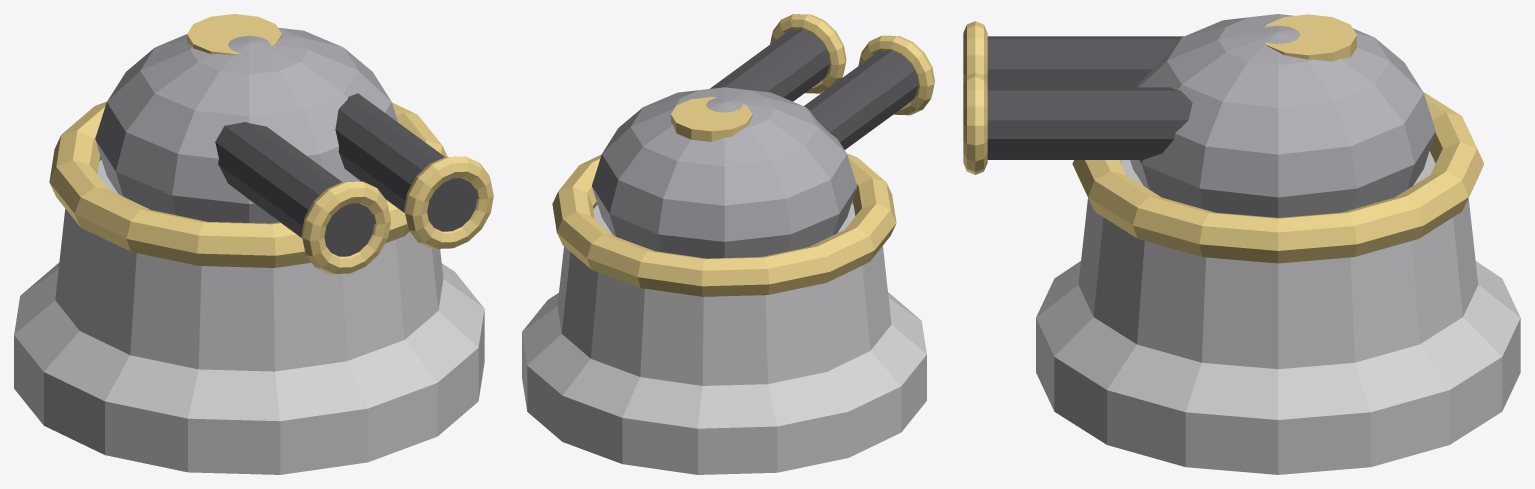
Rendered from cannon-3.glb.
3 renders of one model, left to right at view 1: azimuth 30°, elevation 25°; view 2: azimuth 150°, elevation 25°; view 3: azimuth 270°, elevation 25°, orthographic. The views are drawn at different scales.
Visible parts, largest first — view 1: cannon-3 base, cannon-3 dome, cannon-3 ring, cannon-3 barrel 1, cannon-3 barrel 2, cannon-3 trim 2, cannon-3 trim 1, cannon-3 hatch; view 2: cannon-3 base, cannon-3 dome, cannon-3 ring, cannon-3 barrel 1, cannon-3 barrel 2, cannon-3 hatch, cannon-3 trim 1, cannon-3 trim 2; view 3: cannon-3 base, cannon-3 dome, cannon-3 ring, cannon-3 barrel 2, cannon-3 barrel 1, cannon-3 hatch, cannon-3 trim 2, cannon-3 trim 1.
Part boxes in pixels (x1,y1,x2,y2): cannon-3 base: [14, 160, 484, 474]; cannon-3 dome: [95, 27, 398, 223]; cannon-3 ring: [49, 101, 447, 267]; cannon-3 barrel 1: [215, 122, 374, 256]; cannon-3 barrel 2: [335, 93, 477, 231]; cannon-3 trim 2: [404, 156, 493, 248]; cannon-3 trim 1: [301, 181, 390, 273]; cannon-3 hatch: [187, 14, 281, 54]; cannon-3 base: [522, 204, 926, 474]; cannon-3 dome: [592, 87, 856, 258]; cannon-3 ring: [552, 153, 896, 296]; cannon-3 barrel 1: [804, 51, 918, 149]; cannon-3 barrel 2: [710, 29, 829, 101]; cannon-3 hatch: [671, 97, 752, 141]; cannon-3 trim 1: [858, 35, 934, 115]; cannon-3 trim 2: [770, 14, 846, 93]; cannon-3 base: [1036, 151, 1520, 474]; cannon-3 dome: [1130, 14, 1435, 217]; cannon-3 ring: [1072, 91, 1483, 263]; cannon-3 barrel 2: [987, 87, 1192, 159]; cannon-3 barrel 1: [987, 36, 1183, 87]; cannon-3 hatch: [1265, 14, 1356, 61]; cannon-3 trim 2: [963, 72, 987, 174]; cannon-3 trim 1: [963, 21, 987, 83].
Size of the model in its own units: 0.8 by 0.62 by 0.92.
